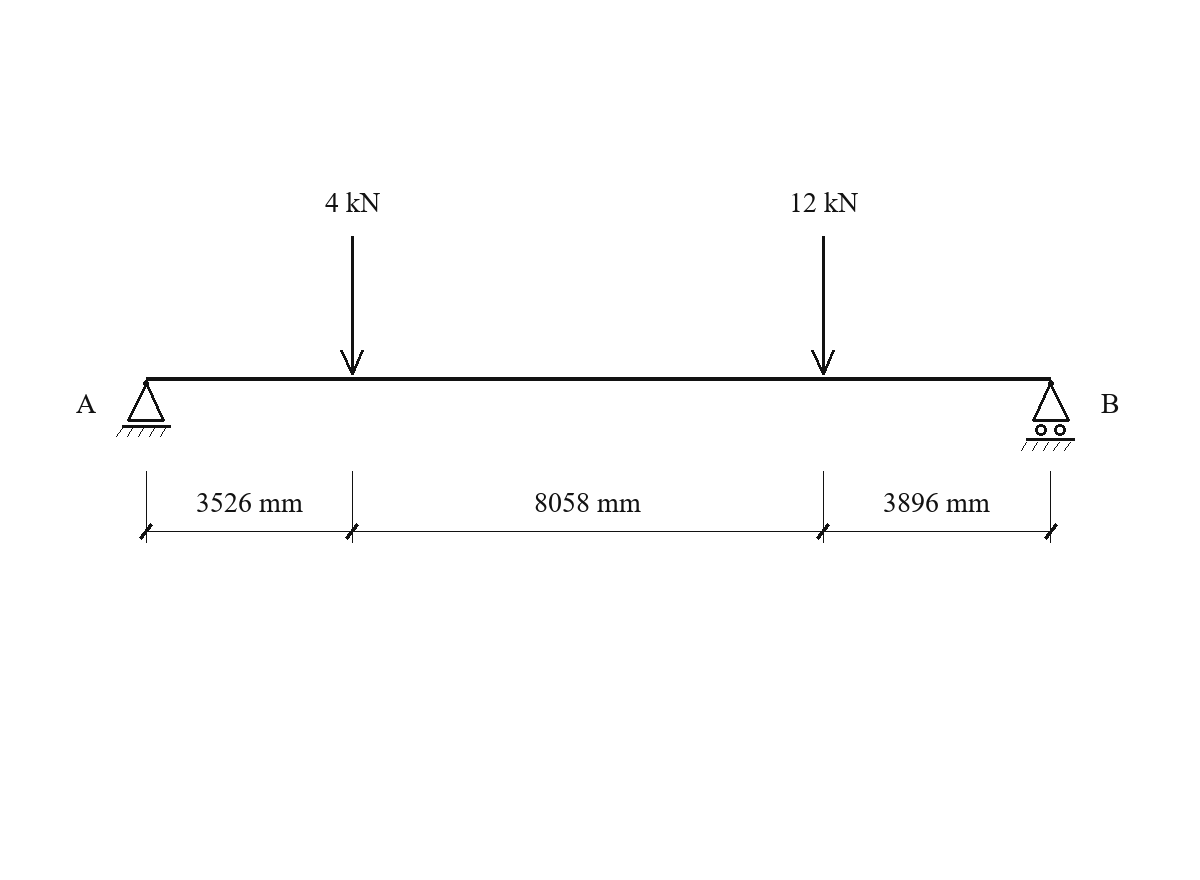pin_support: (116, 380, 171, 437)
point_load: (340, 236, 364, 375), (811, 236, 835, 375)
roller_support: (1021, 380, 1075, 451)
